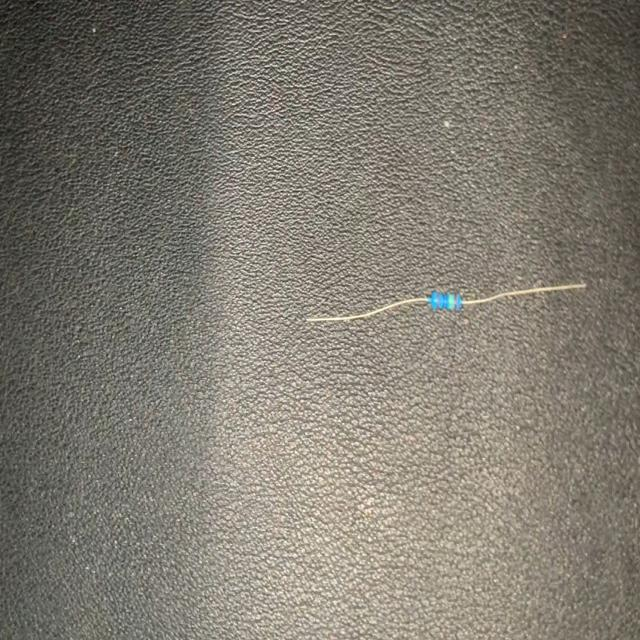resistor: (300, 276, 590, 327)
